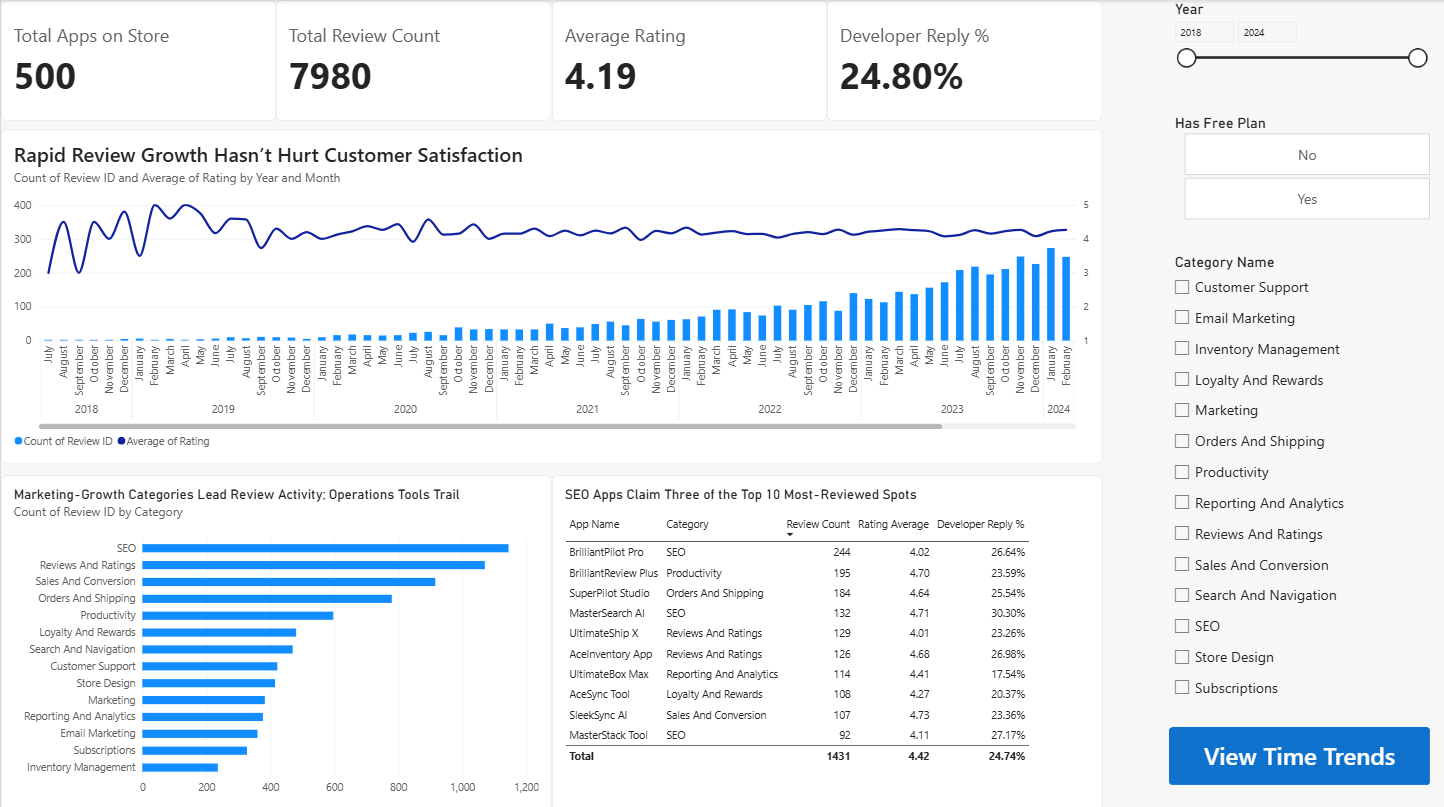

What the dashboard file says about the page in this screenshot:
{"tool":"powerbi","page":{"name":"Overview","canvas":[1920,1080],"ordinal":0},"visuals":[{"type":"cardVisual","fields":{"Data":["apps.Total Apps on Store"]},"box":[0,0,366.2,161.9],"z":0},{"type":"cardVisual","fields":{"Data":["CountNonNull(reviews.Review ID)"]},"box":[366.2,0,366.2,161.9],"z":1000},{"type":"cardVisual","fields":{"Data":["Avg(reviews.Rating)"]},"box":[732.4,0,366.2,161.9],"z":2000},{"type":"cardVisual","fields":{"Data":["reviews.Developer Reply %"]},"box":[1098.6,0,366.2,161.9],"z":3000},{"type":"slicer","fields":{"Values":["apps.Category Name"]},"box":[1553.8,337,347.2,606.9],"z":4000},{"type":"slicer","fields":{"Values":["Dim_Date.Year"]},"box":[1553.5,0,347.1,151.6],"z":5000},{"type":"slicer","fields":{"Values":["apps.Has Free Plan"]},"box":[1553.8,151.7,366.2,141.5],"z":6000},{"type":"lineClusteredColumnComboChart","title":"Rapid Review Growth Hasn’t Hurt Customer Satisfaction","fields":{"Category":["Dim_Date.Year","Dim_Date.Month"],"Y":["CountNonNull(reviews.Review ID)"],"Y2":["Avg(reviews.Rating)"]},"box":[0,172.2,1464.8,446.4],"z":7000},{"type":"clusteredBarChart","title":"Marketing-Growth Categories Lead Review Activity; Operations Tools Trail","fields":{"Category":["apps.Category Name"],"Y":["CountNonNull(reviews.Review ID)"]},"box":[0,631.7,732.4,447.9],"z":8000},{"type":"tableEx","title":"SEO Apps Claim Three of the Top 10 Most-Reviewed Spots","fields":{"Values":["apps.App Name","apps.Category Name","reviews.Review ID","Avg(reviews.Rating)","reviews.Developer Reply %"]},"box":[732.4,631.7,732.4,447.9],"z":9000},{"type":"actionButton","box":[1553.8,967.3,347.2,77.3],"z":10000}]}

Visuals, with their boxes in screenshot pixels (x1, y1, x2, y2), scaled from the page's 1920x1080 canvas onto the 1444x807 screenshot:
cardVisual - apps.Total Apps on Store: (x1=0, y1=0, x2=275, y2=121)
cardVisual - CountNonNull(reviews.Review ID): (x1=275, y1=0, x2=551, y2=121)
cardVisual - Avg(reviews.Rating): (x1=551, y1=0, x2=826, y2=121)
cardVisual - reviews.Developer Reply %: (x1=826, y1=0, x2=1102, y2=121)
slicer - apps.Category Name: (x1=1169, y1=252, x2=1430, y2=705)
slicer - Dim_Date.Year: (x1=1168, y1=0, x2=1429, y2=113)
slicer - apps.Has Free Plan: (x1=1169, y1=113, x2=1443, y2=219)
"Rapid Review Growth Hasn’t Hurt Customer Satisfaction" lineClusteredColumnComboChart: (x1=0, y1=129, x2=1102, y2=462)
"Marketing-Growth Categories Lead Review Activity; Operations Tools Trail" clusteredBarChart: (x1=0, y1=472, x2=551, y2=806)
"SEO Apps Claim Three of the Top 10 Most-Reviewed Spots" tableEx: (x1=551, y1=472, x2=1102, y2=806)
actionButton: (x1=1169, y1=723, x2=1430, y2=781)
